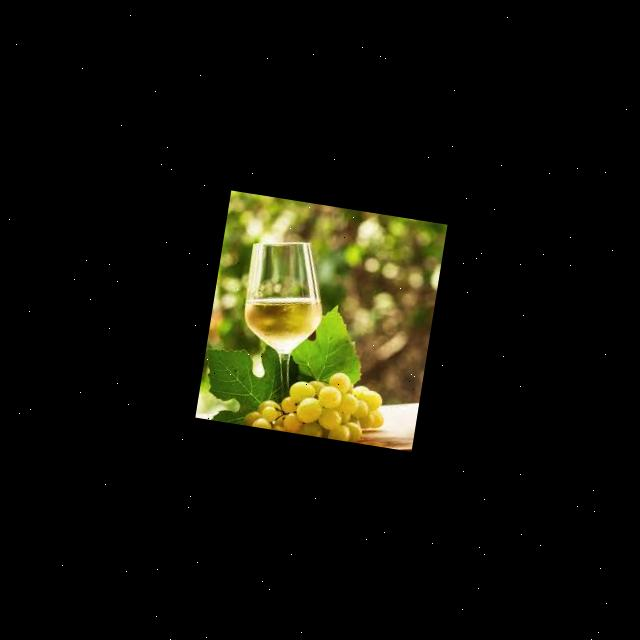grape: (242, 357, 390, 445)
